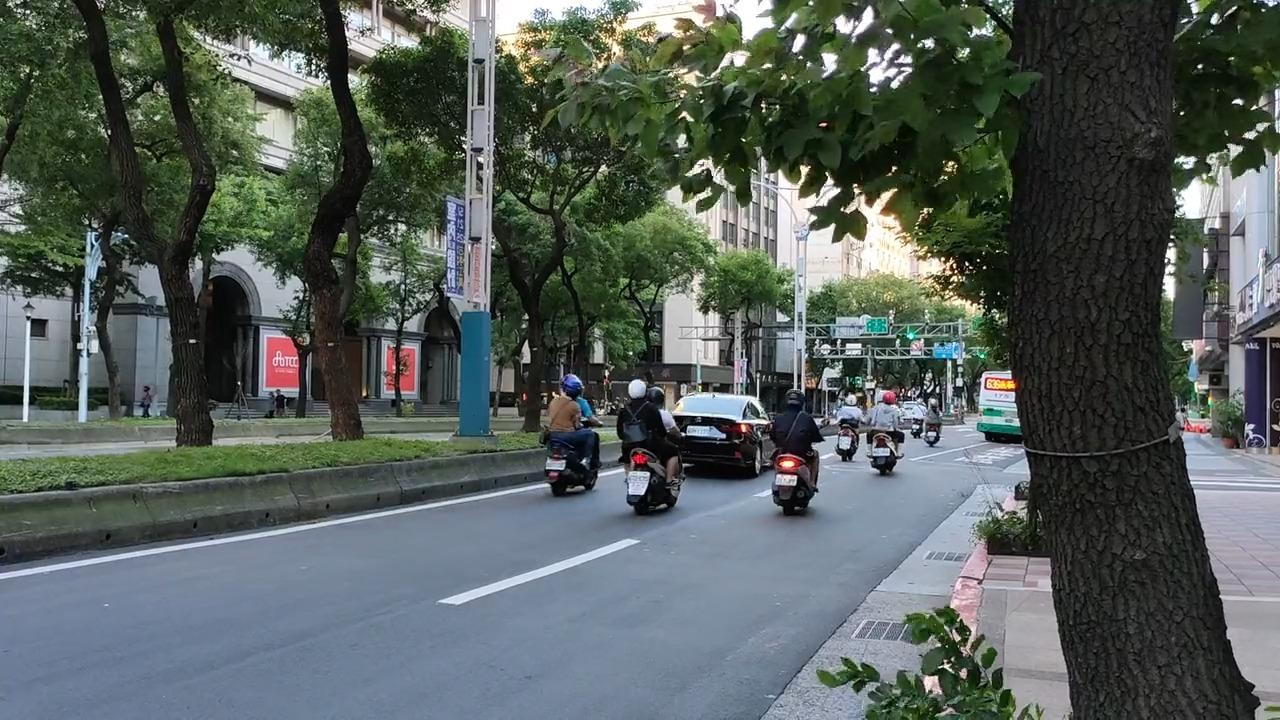driver: (616, 378, 687, 515), (538, 373, 605, 496), (769, 388, 830, 515)
helmet: (562, 378, 584, 401), (785, 388, 805, 410), (628, 378, 647, 401), (646, 386, 665, 409)
